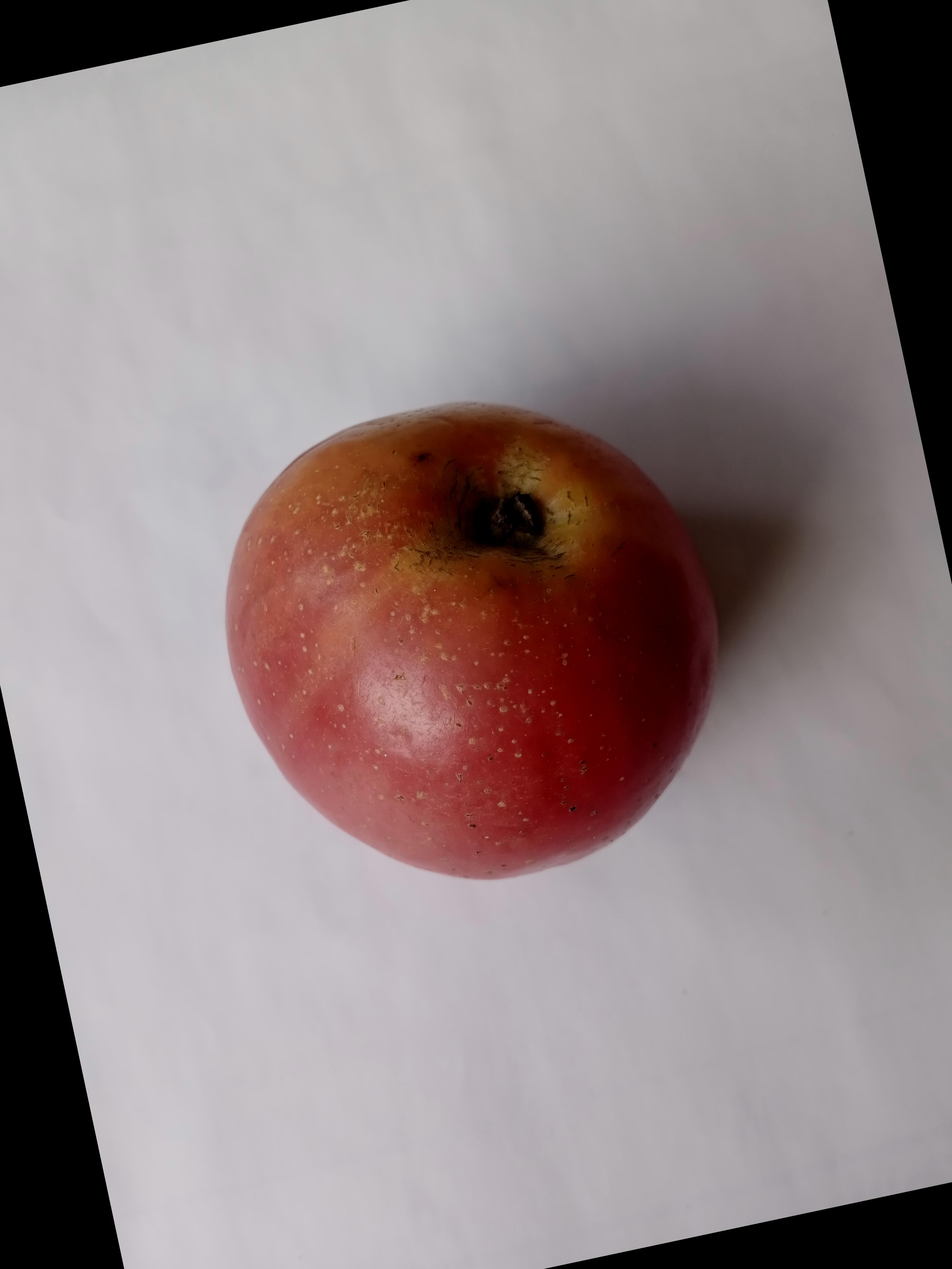Apple Ripe: (16, 486, 631, 1080)
